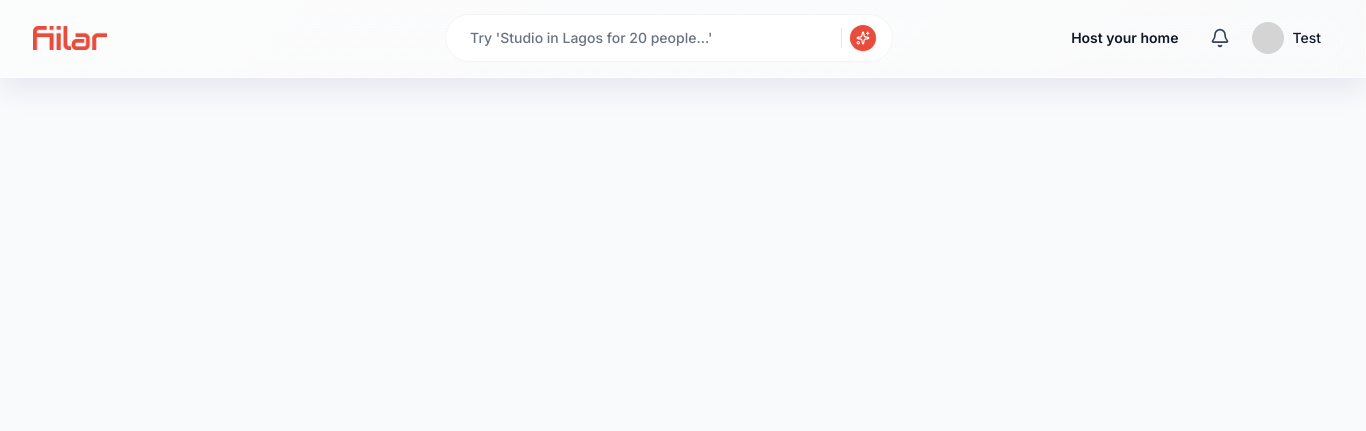
it: Navbar › opens account menu when clicked
The image size is (1366, 431).
Click the button with aria-label "account". click: x=1290, y=38
box: 1246,16 -> 1333,60
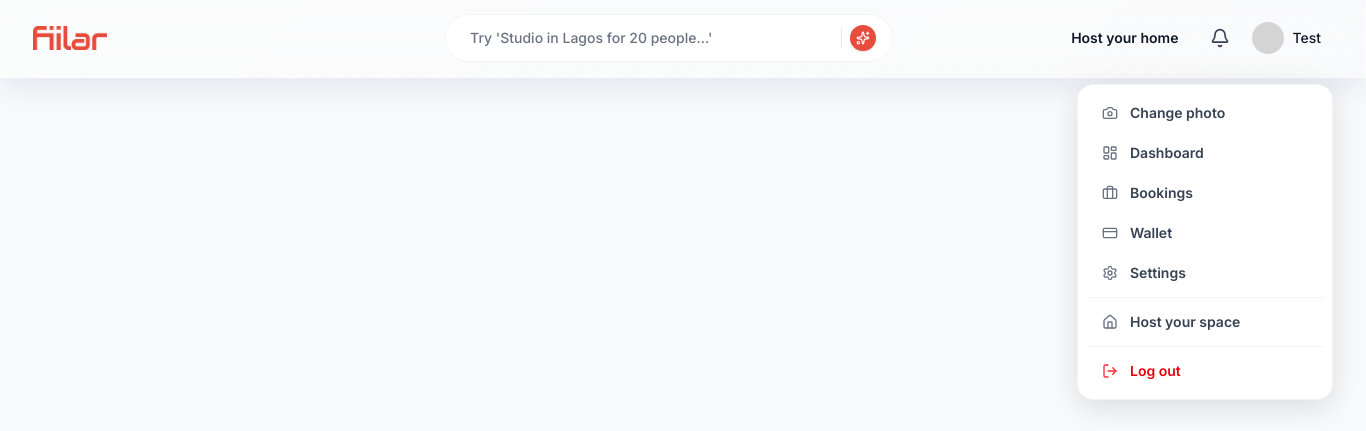
Expected: the link "Dashboard" is shown, 1102,144 -> 1204,161
Expected: the button "Log out" is shown, 1086,351 -> 1324,391
